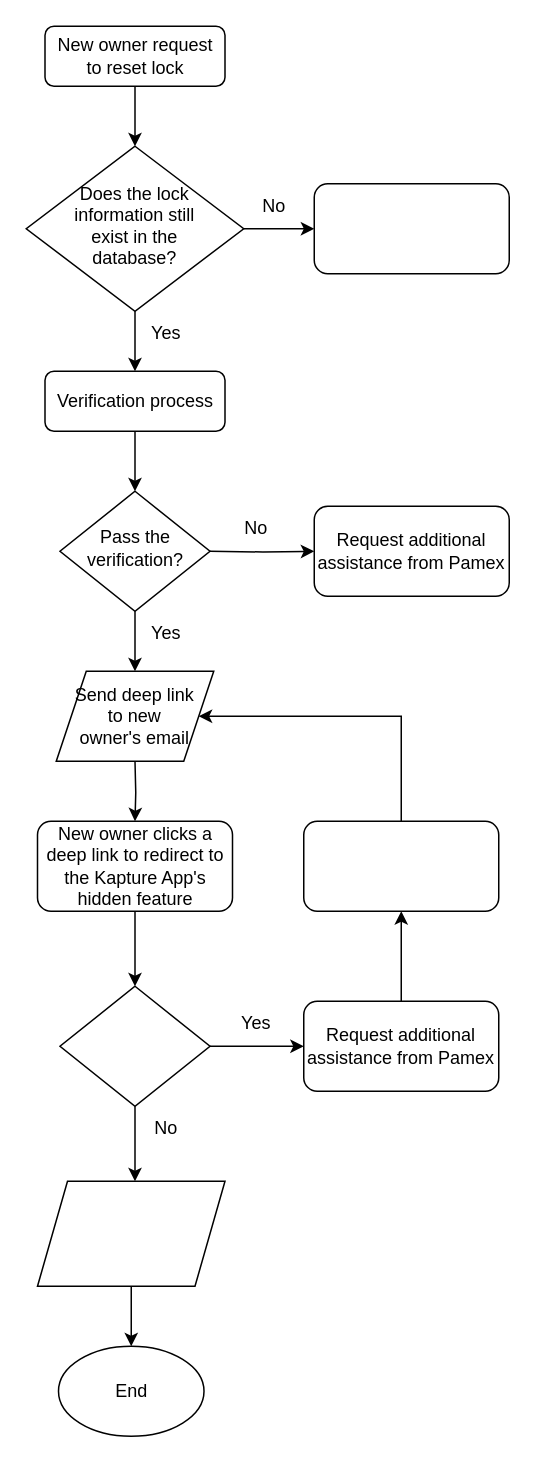
Some shapes in this 536 by 1463 pixel diagram are drawn without their labels. The centre of each missing label's shape, as x and y in pixels:
"Buy a new Kapture Lock" belongs at (x=411, y=228).
"Is deep link expired ?" belongs at (x=134, y=1045).
"Pamex internal process" belongs at (x=400, y=865).
"Set reset command to lock through BLE" belongs at (x=130, y=1233).
